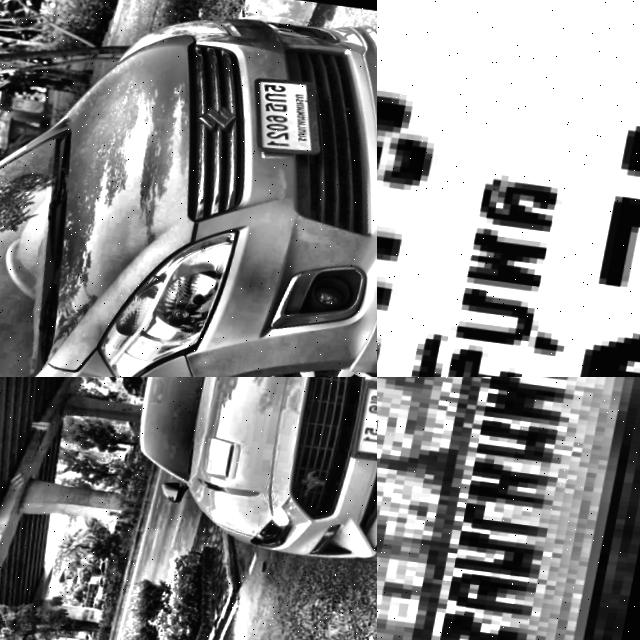license-plate: (377, 0, 640, 377), (377, 377, 640, 640), (235, 67, 337, 161), (355, 377, 377, 457)
